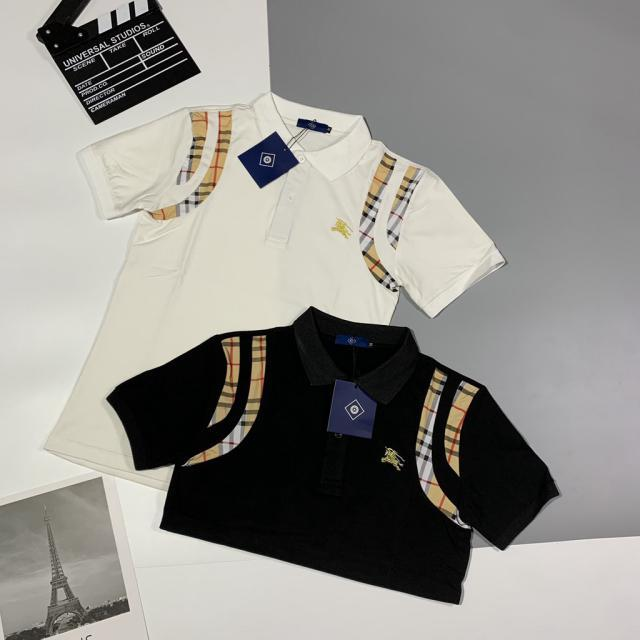Shirt: (47, 94, 502, 524), (103, 311, 558, 605)
